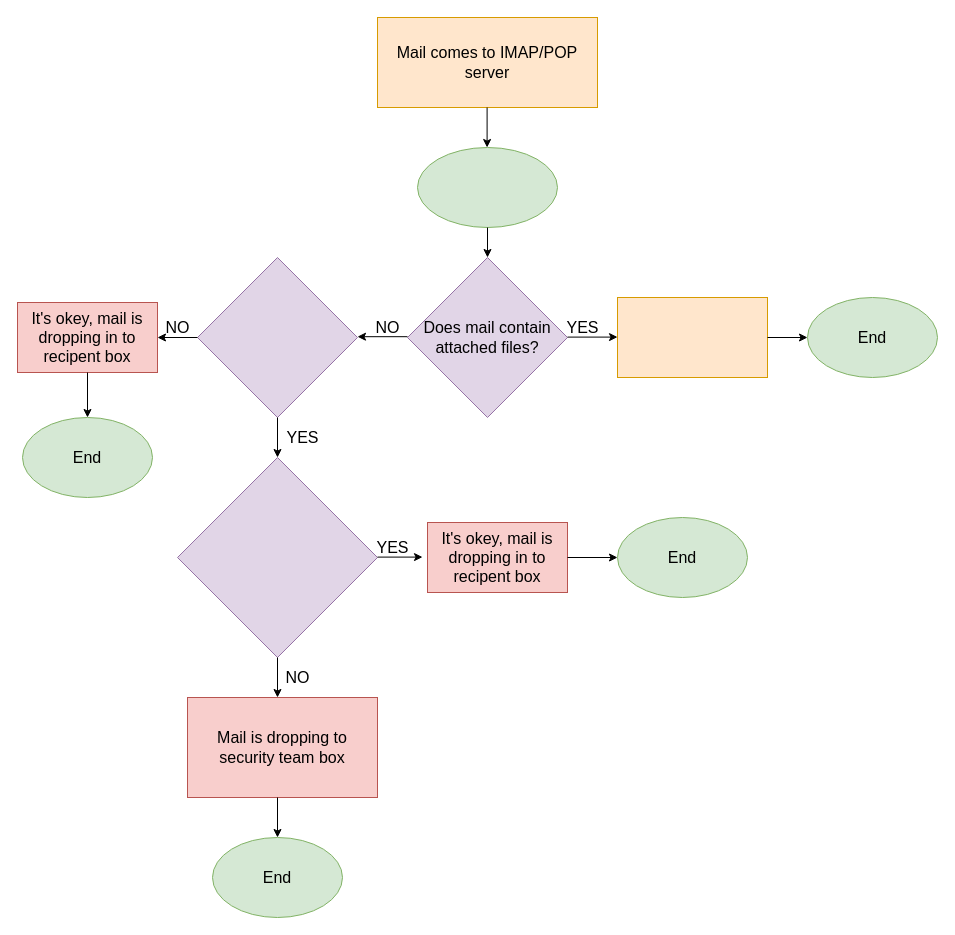
Some shapes in this 955 by 935 pixel diagram are drawn without their labels. The shapes that lost their labels are listed below. From the top down, each one's box as (x1, y1, x2, y2) in pixels, then its label:
(416, 146, 558, 228): Start filtring scripts
(196, 256, 358, 418): Does mail text contain links?
(616, 296, 768, 378): Server replies with request for using website forms
(176, 456, 378, 658): Does link domain contains in specific sets (domain, subdomain, whitelist)?
